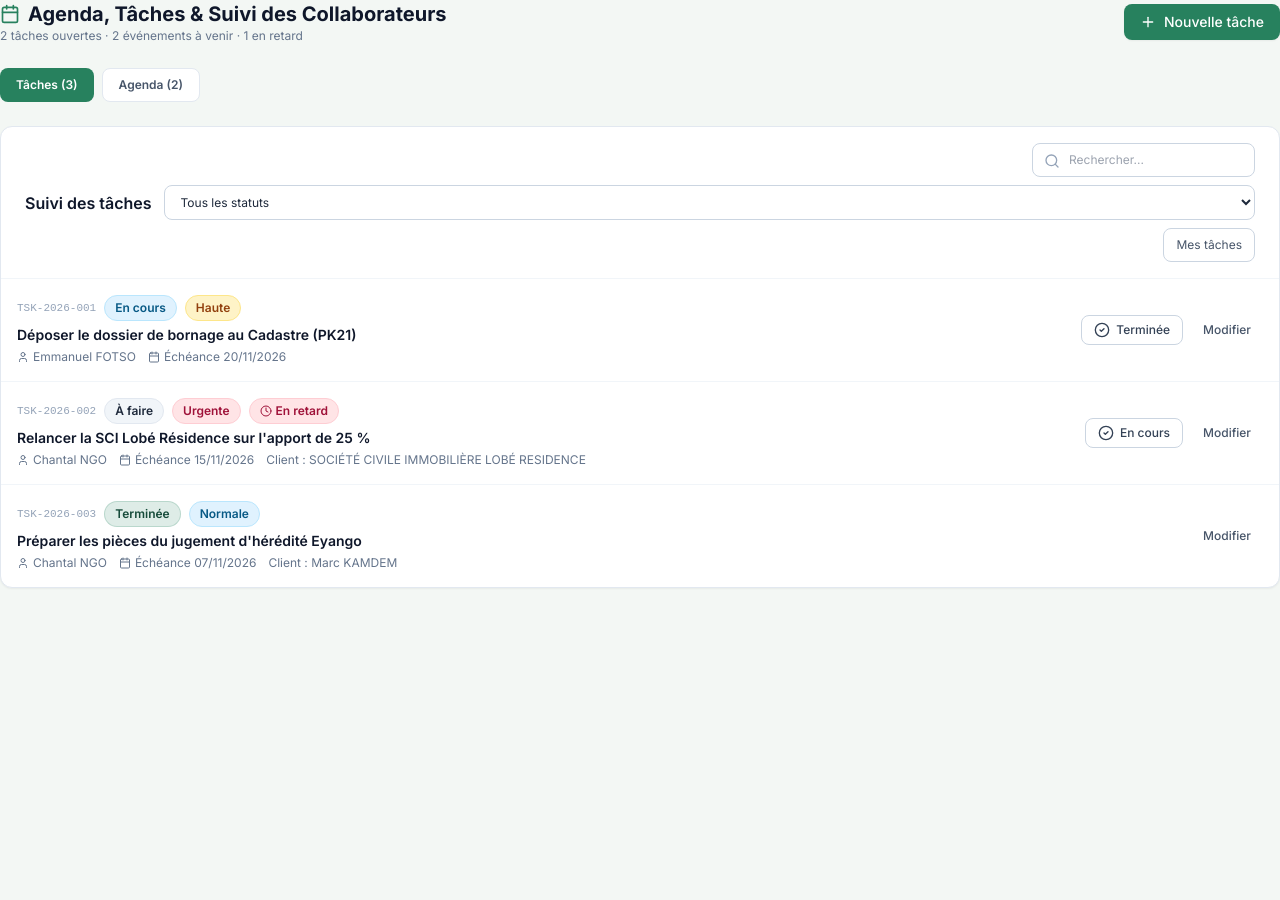
Test case: TasksPage en mode démo › enregistre une tâche créée dans le dépôt local
Click the button "Nouvelle tâche": coordinates (1202, 22) [1124,4,1279,40]
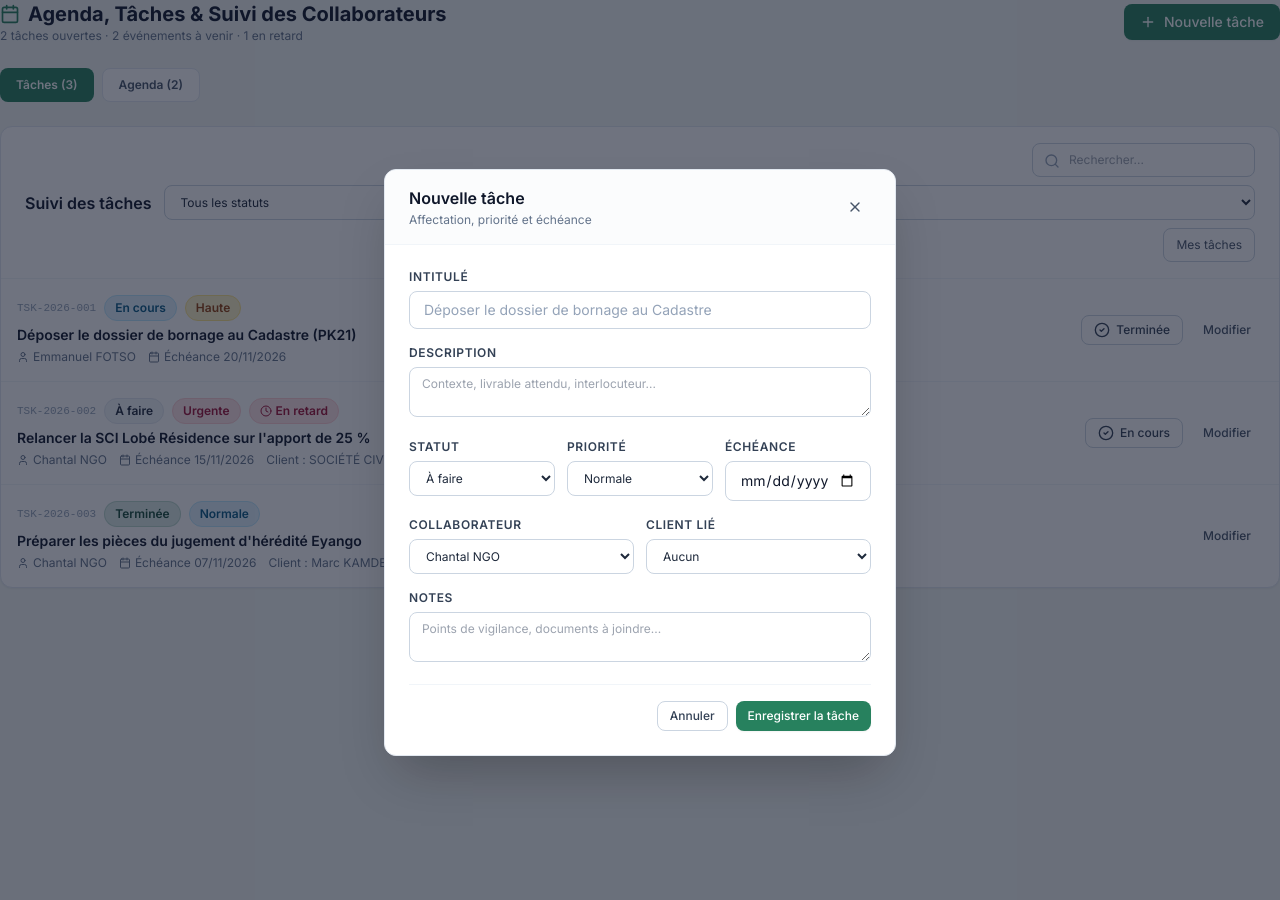
In the field with placeholder "Déposer le dossier de bornage au Cadastre": coordinates (640, 310) [409,290,871,328], type "Contacter le notaire pour la marge"
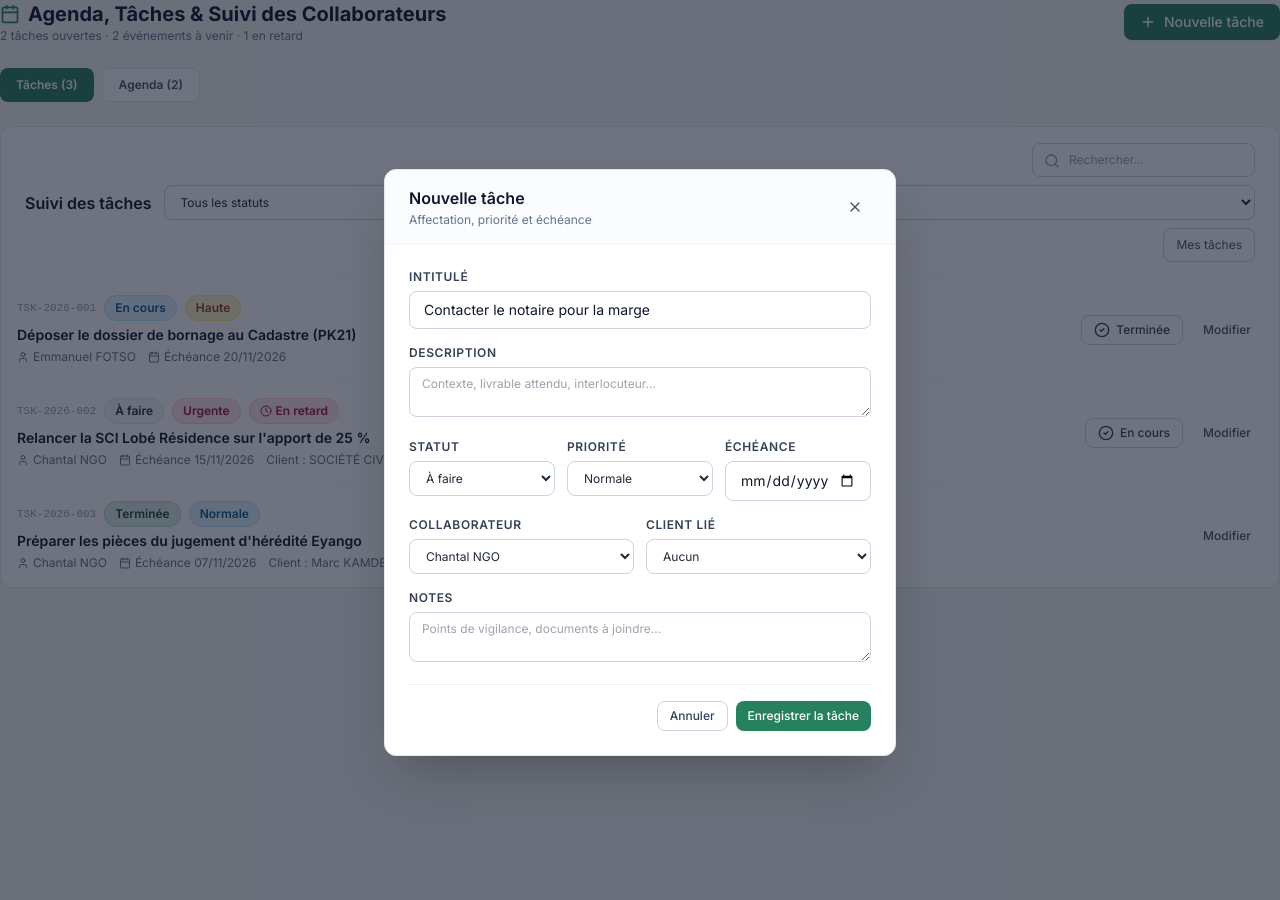
Click the button "Enregistrer la tâche": coordinates (803, 716) [736,700,871,730]
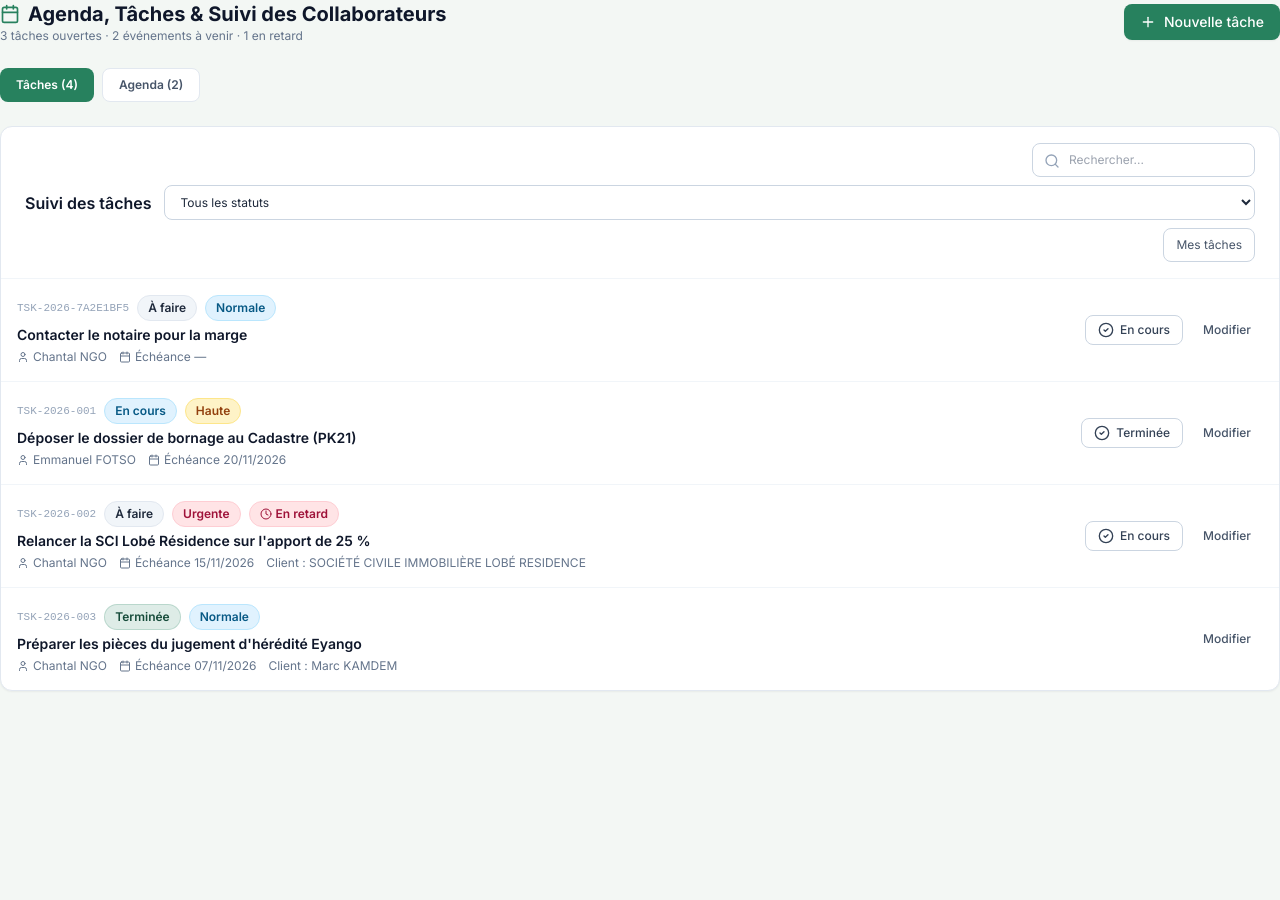
Result: the text "Contacter le notaire pour la marge" is shown at [17,326,247,343]
